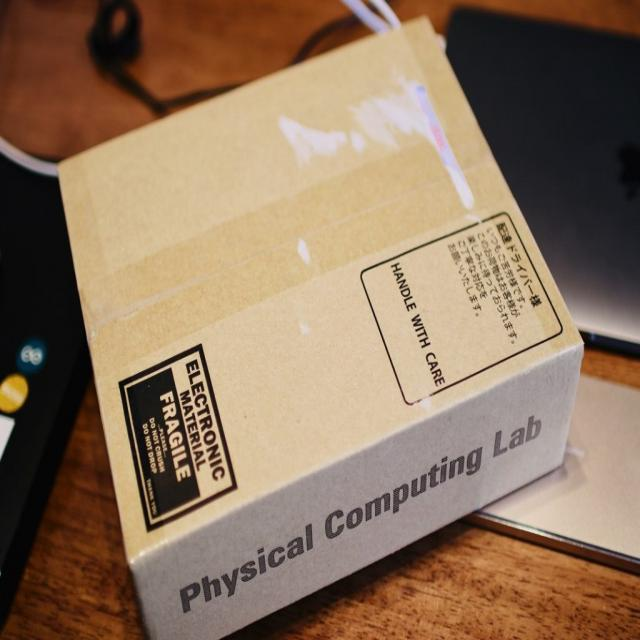box: (57, 8, 588, 640)
